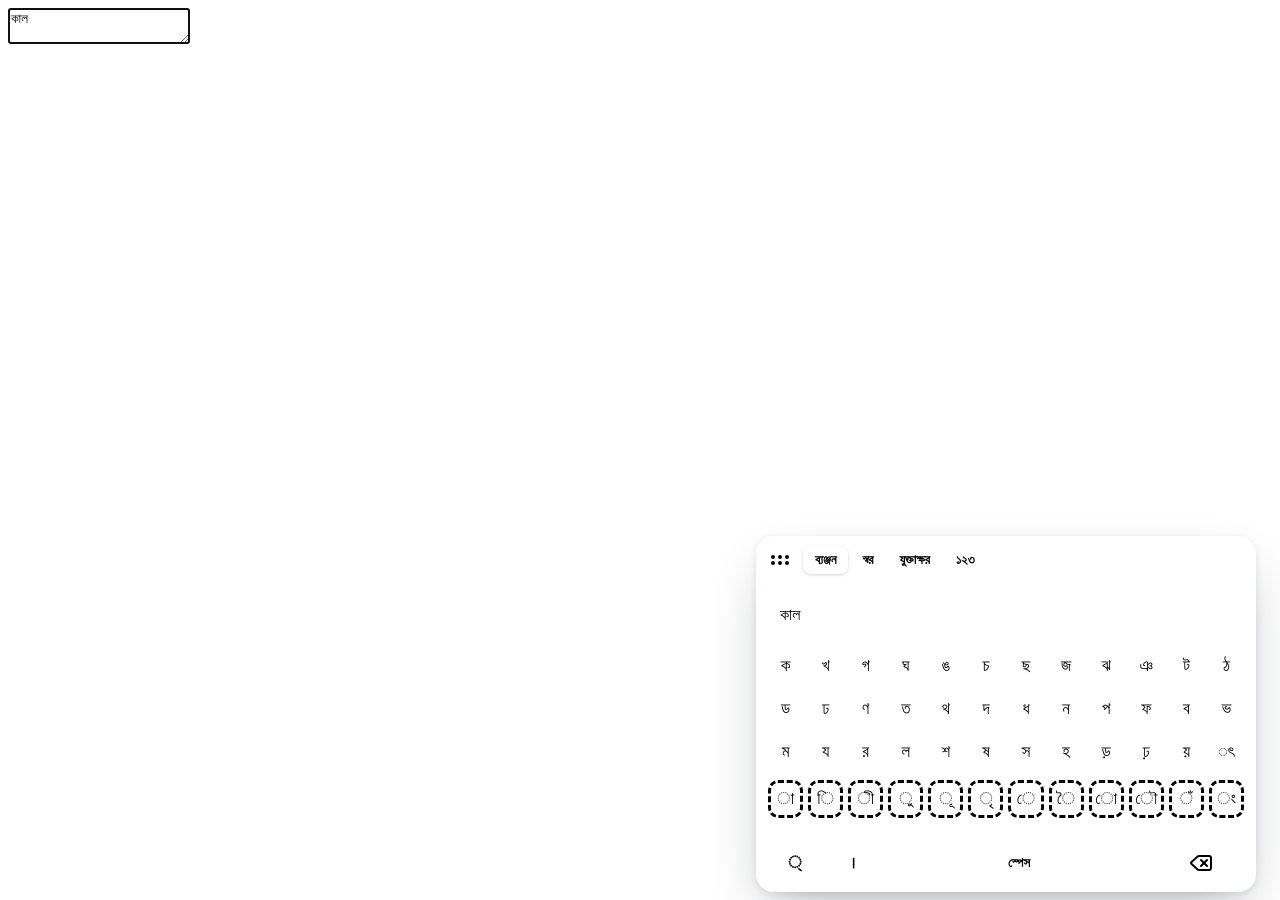
Test: BanglaKeyboard › deletes one character with backspace
Click the button named "Backspace" at (1201, 862), box [1158,844,1244,882]
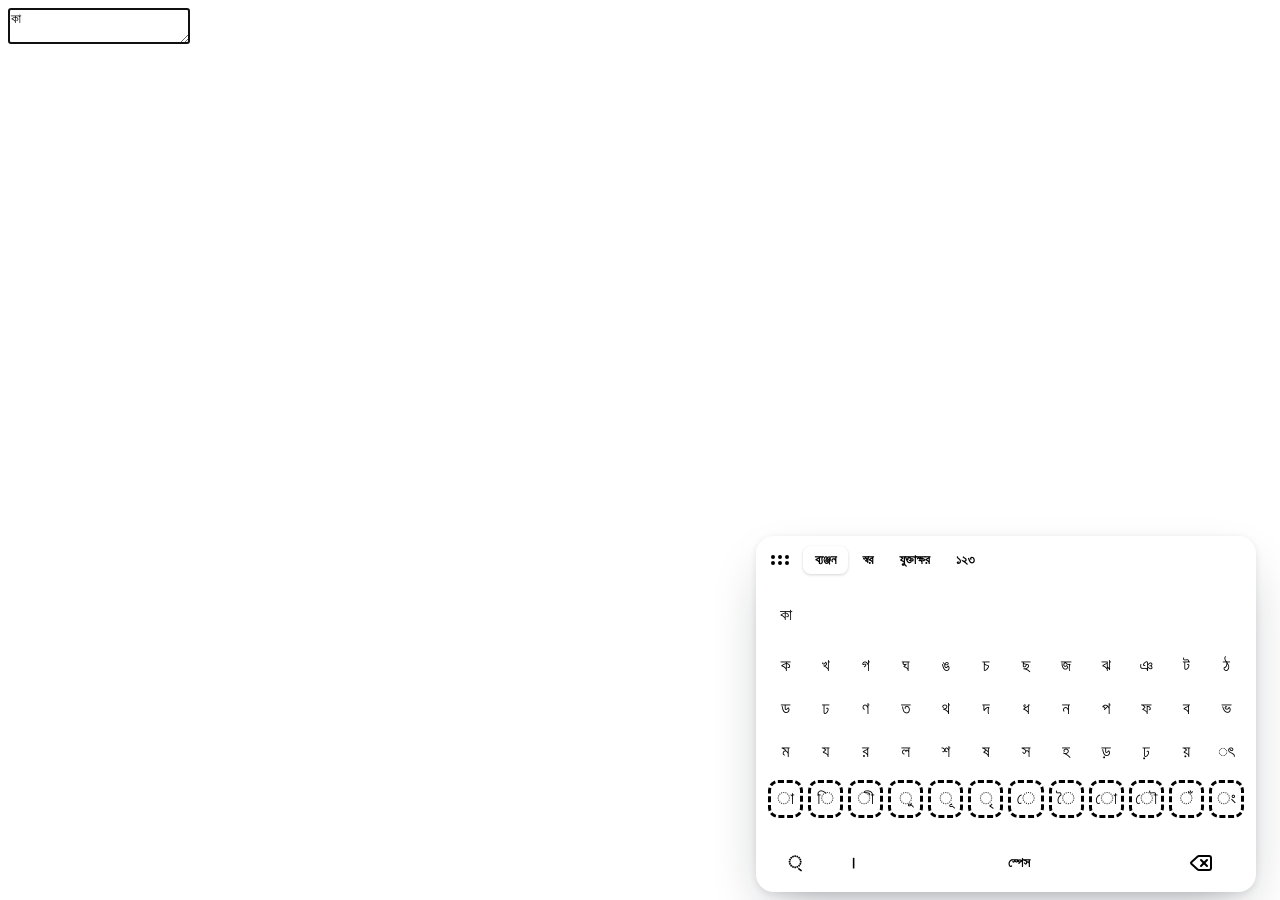
Check: the text box named "advice" holds "কা", box [8,8,190,44]
